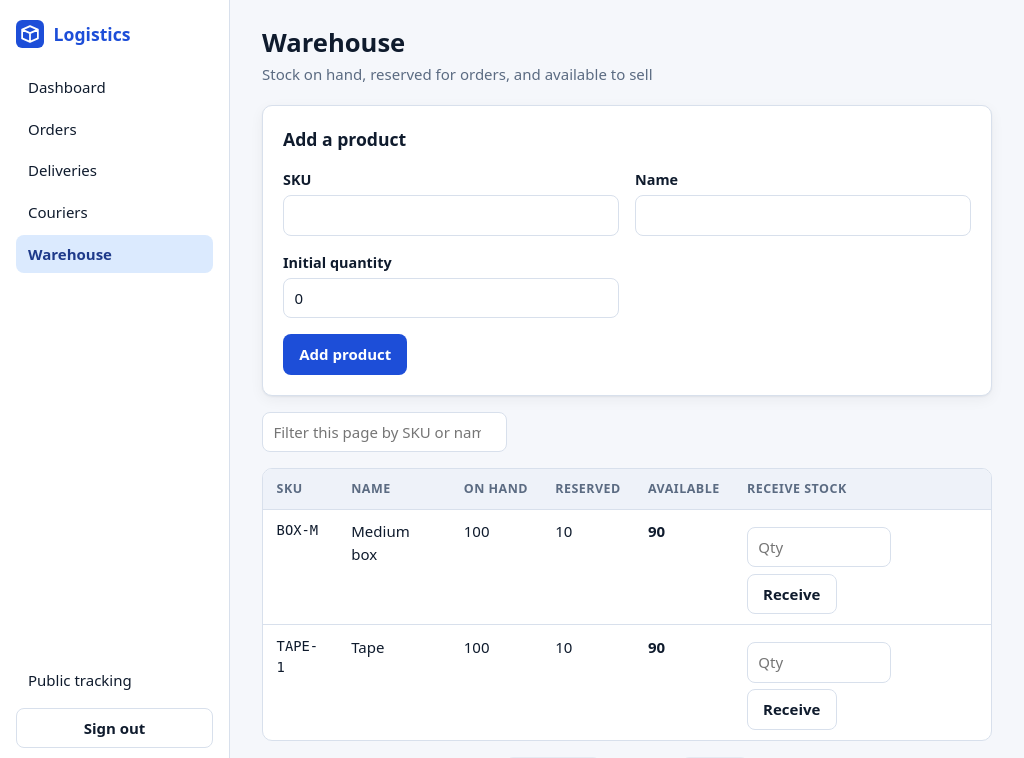
Test: warehouse › filters the page by name
This screenshot has width=1024, height=758.
Expected: the text "Medium box" is shown, [338,509,450,625]
Type "tape" into the search field named "Filter products" at point(384, 432), box [262,412,507,452]
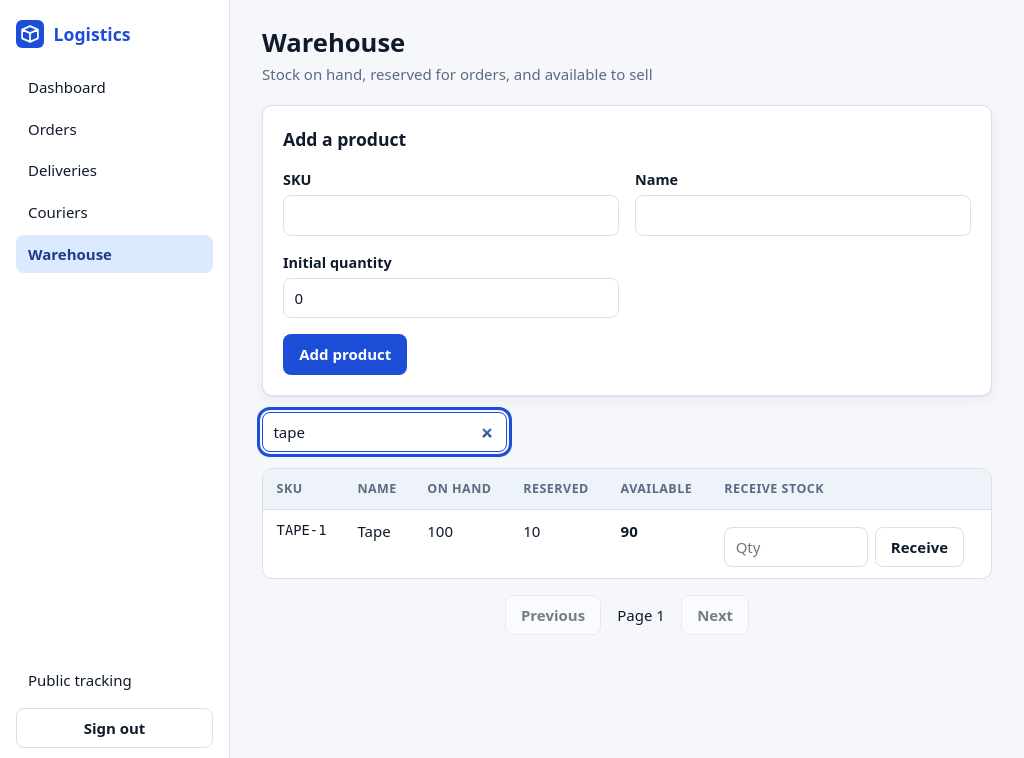
Expected: the text "Tape" is shown, [344,509,414,578]
Result: the text "Medium box" is gone
